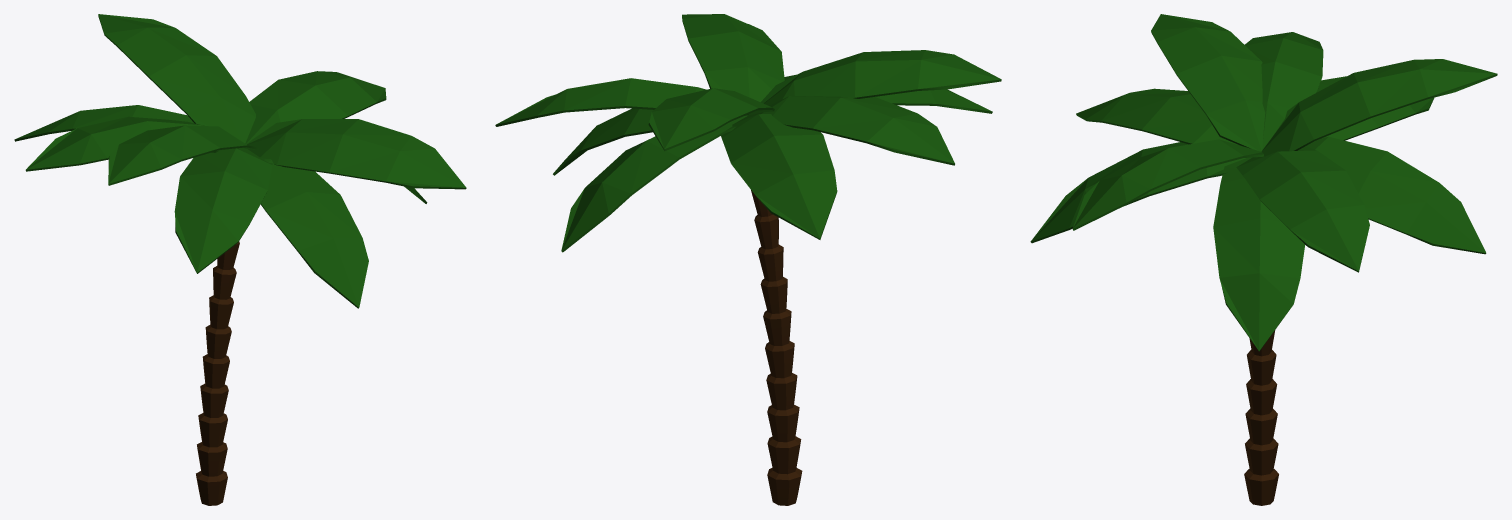
Rendered from palmera_grande.fbx.
3 views of the same model, side by side, from view 1: azimuth 30°, elevation 25°; view 2: azimuth 150°, elevation 25°; view 3: azimuth 270°, elevation 25° (orthographic). The views are drawn at different scales.
Parts seen in each view (by area): view 1: Plane036, Plane034, Plane030, Plane033, Plane035, Plane037, Plane028, Plane031, Cylinder077, Cylinder078, Cylinder079, Cylinder080 (+4 smaller); view 2: Plane031, Plane037, Plane028, Plane036, Plane029, Plane034, Plane035, Plane032, Plane033, Cylinder077, Cylinder078, Cylinder079 (+6 smaller); view 3: Plane032, Plane035, Plane037, Plane034, Plane029, Plane036, Plane028, Plane033, Plane030, Plane031, Cylinder077, Cylinder078 (+3 smaller).
Boxes of the visible parts, x1,y1,x2,y2 form: Plane036: (246, 119, 466, 189); Plane034: (98, 14, 255, 143); Plane030: (260, 158, 368, 308); Plane033: (174, 147, 272, 273); Plane035: (245, 71, 386, 144); Plane037: (108, 125, 258, 185); Plane028: (25, 116, 218, 171); Plane031: (14, 105, 193, 141); Cylinder077: (196, 471, 227, 505); Cylinder078: (197, 442, 227, 476); Cylinder079: (198, 413, 227, 447); Cylinder080: (200, 383, 228, 417); Plane031: (721, 114, 837, 239); Plane037: (761, 50, 1001, 105); Plane028: (755, 96, 954, 165); Plane036: (682, 14, 784, 101); Plane029: (561, 115, 748, 252); Plane034: (648, 88, 774, 151); Plane035: (495, 78, 747, 126); Plane032: (553, 108, 653, 175); Plane033: (875, 89, 992, 113); Cylinder077: (767, 467, 802, 505); Cylinder078: (767, 436, 801, 474); Cylinder079: (767, 404, 799, 442); Plane032: (1213, 157, 1304, 351); Plane035: (1236, 146, 1369, 272); Plane037: (1151, 14, 1265, 151); Plane034: (1261, 59, 1497, 152); Plane029: (1306, 136, 1486, 254); Plane036: (1072, 139, 1263, 230); Plane028: (1245, 32, 1323, 149); Plane033: (1076, 88, 1238, 144); Plane030: (1030, 142, 1245, 243); Plane031: (1316, 76, 1434, 140); Cylinder077: (1244, 468, 1278, 505); Cylinder078: (1245, 438, 1278, 475).
Bounding box in the file's own units: 351 × 356 × 345.
